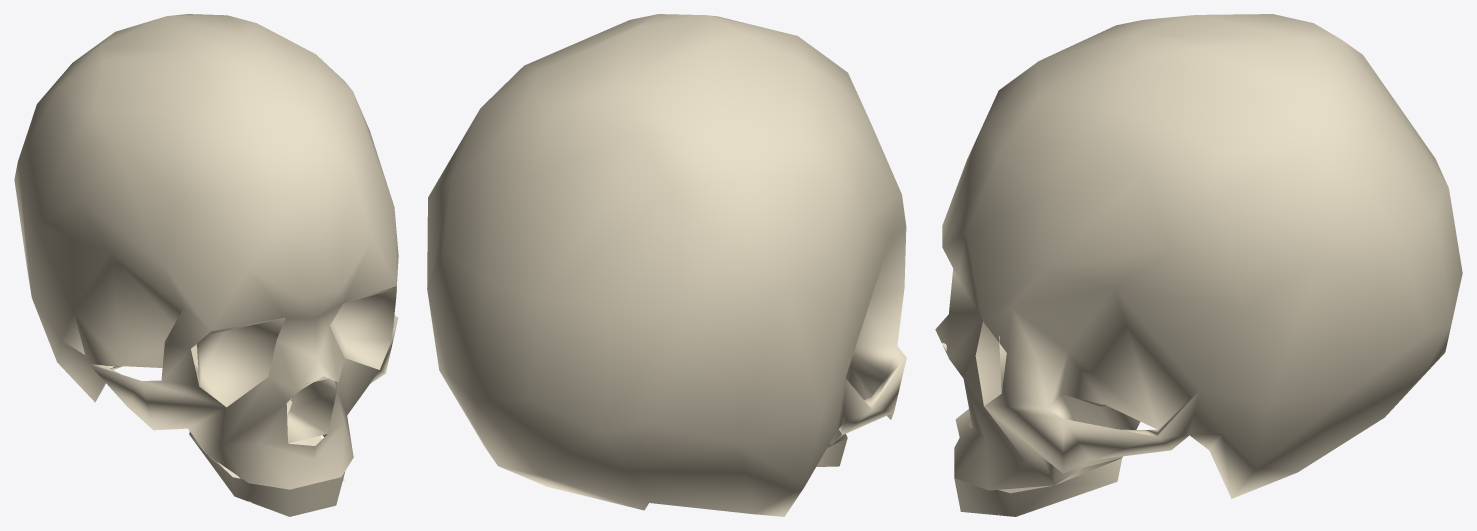
File: kuloutou.FBX
3 views of the same model, side by side, from view 1: azimuth 30°, elevation 25°; view 2: azimuth 150°, elevation 25°; view 3: azimuth 270°, elevation 25° (orthographic). The views are drawn at different scales.
Visible parts, largest first — view 1: Head; view 2: Head; view 3: Head.
Part boxes in pixels (x1,y1,x2,y2): Head: [14, 14, 398, 516]; Head: [427, 14, 906, 516]; Head: [935, 14, 1462, 516].
Bounding box in the file's own units: 0.1501 × 0.1798 × 0.1842.
